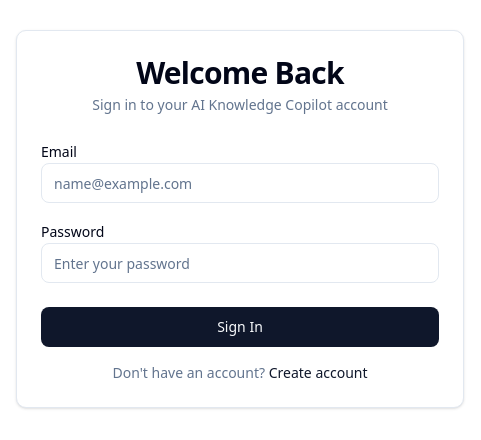
Scenario: LoginPage › displays validation errors for short password
Type "test@example.com" into the field labelled "Email".
click(240, 183); type("test@example.com")  # box [41, 163, 439, 203]
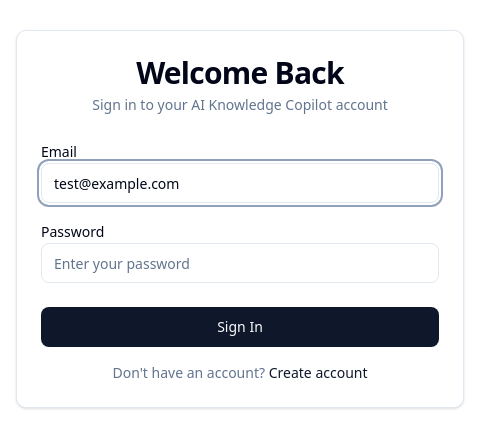
Type "12345" into the password field labelled "Password".
click(240, 263); type("12345")  # box [41, 243, 439, 283]
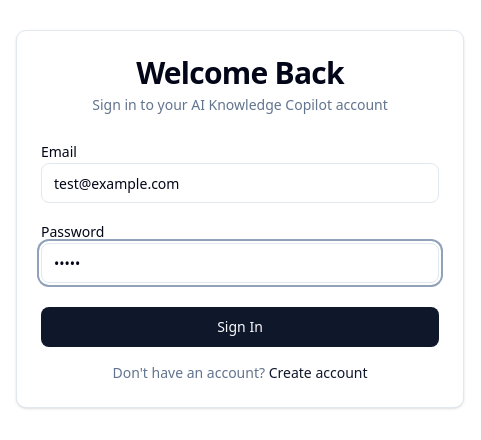
Click the button "Sign In".
click(240, 327)  # box [41, 307, 439, 347]
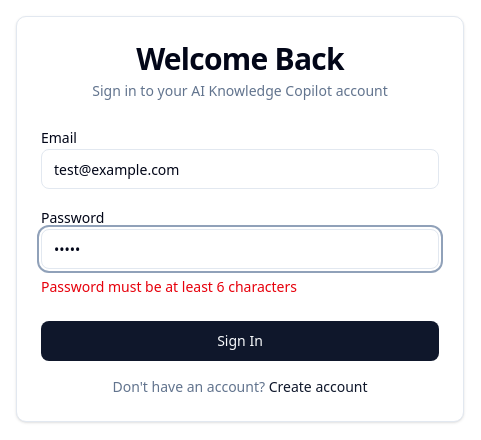
Expected: the text "Password must be at least 6 characters" is shown, [41, 277, 297, 296]
